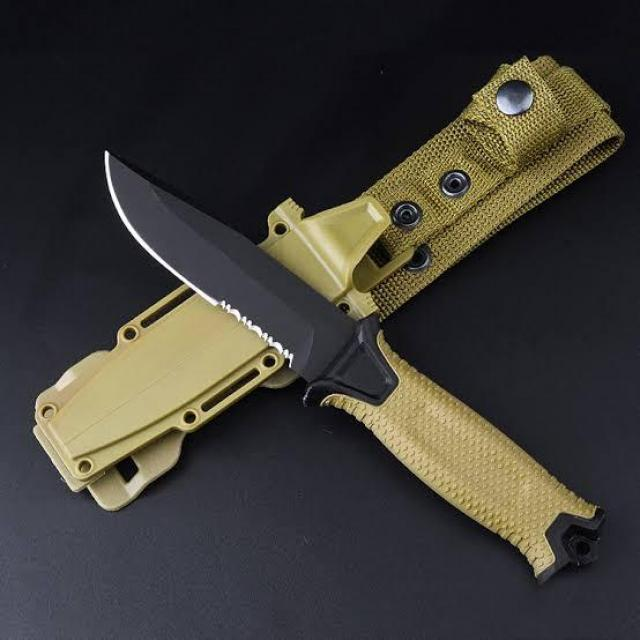knife: (105, 151, 381, 407)
